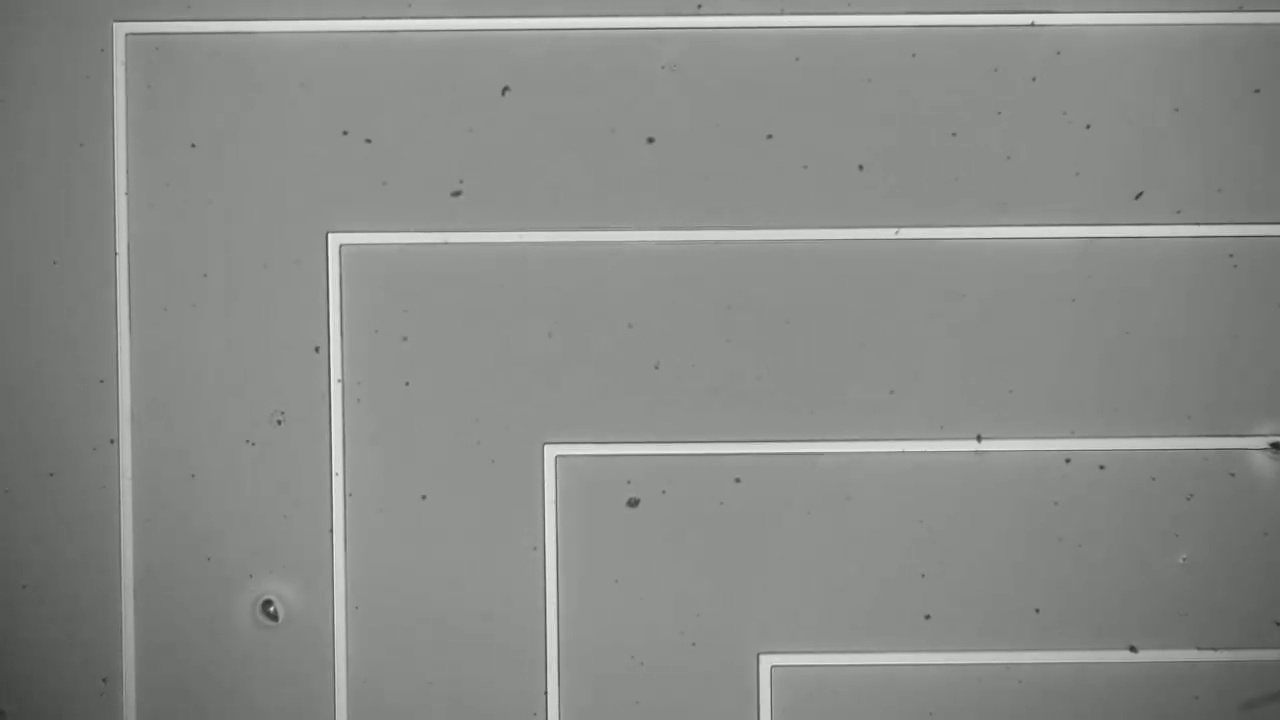stains_enbedded: (1262, 429, 1279, 464)
